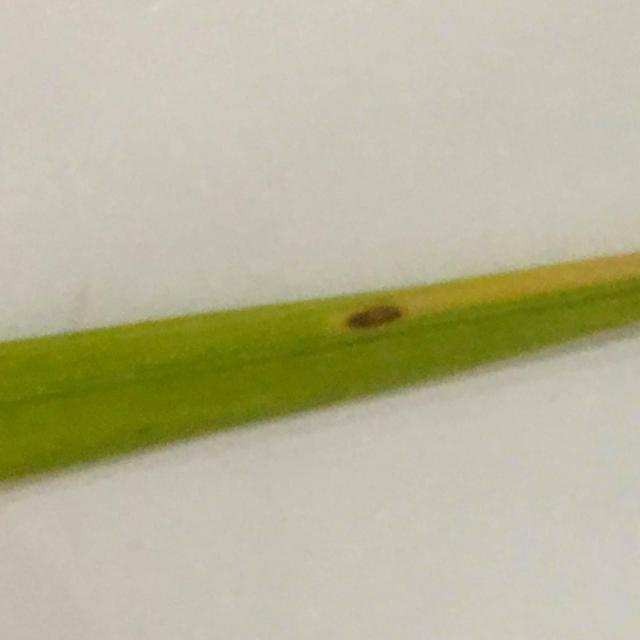Leaf_Blast: (328, 283, 426, 385)
